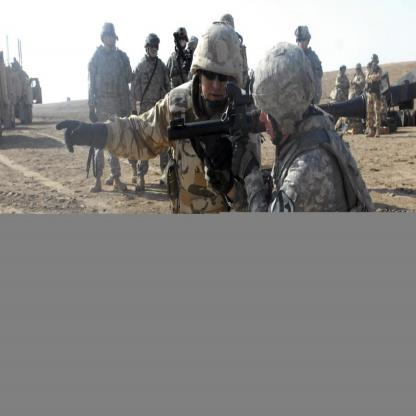face: (203, 59, 232, 111), (260, 99, 287, 146), (149, 40, 159, 58), (179, 32, 187, 47), (106, 31, 114, 46), (299, 35, 306, 50), (373, 59, 377, 68), (358, 68, 361, 74), (343, 68, 346, 74)
